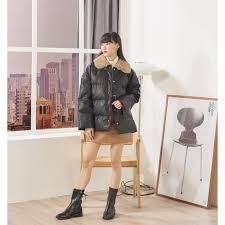jacket: (77, 52, 141, 134)
